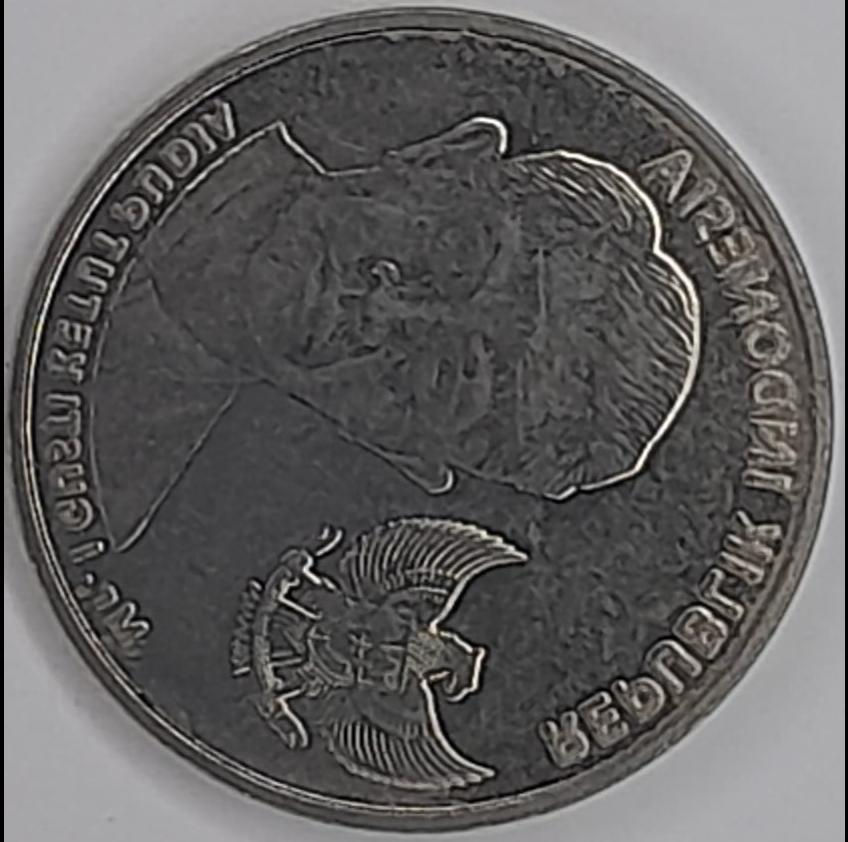coin_1000_e2016: (14, 17, 837, 842)
